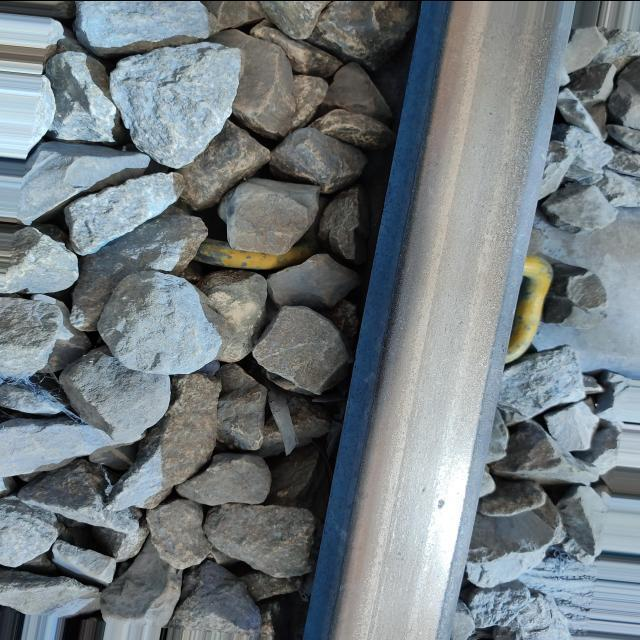head_checks_low: (435, 499, 447, 510)
